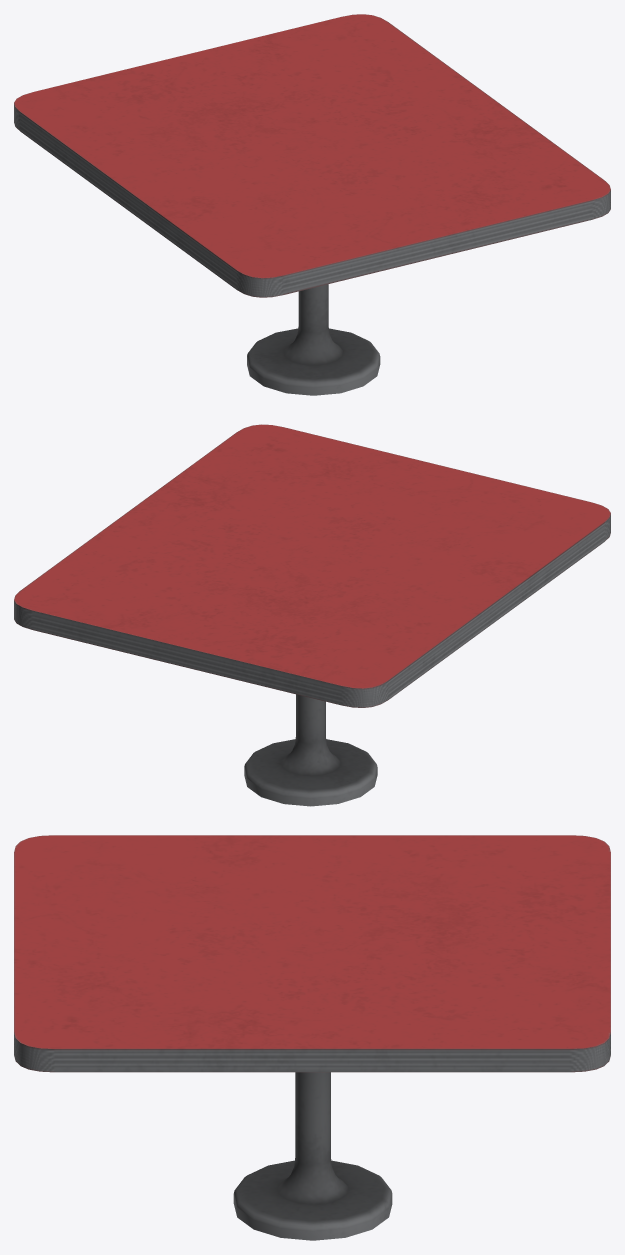
The model's file is Diner Table.fbx.
3 renders of one model, top to bottom at view 1: azimuth 30°, elevation 25°; view 2: azimuth 150°, elevation 25°; view 3: azimuth 270°, elevation 25°, orthographic. The views are drawn at different scales.
Visible parts, largest first — view 1: Diner_Table; view 2: Diner_Table; view 3: Diner_Table.
Part boxes in pixels (x1=…): Diner_Table: x1=14, y1=14, x2=610, y2=395; Diner_Table: x1=14, y1=424, x2=610, y2=806; Diner_Table: x1=14, y1=835, x2=610, y2=1240.
Bounding box in the file's own units: 141 × 81.1 × 166.
Materials: 1 (1 with a texture image).
